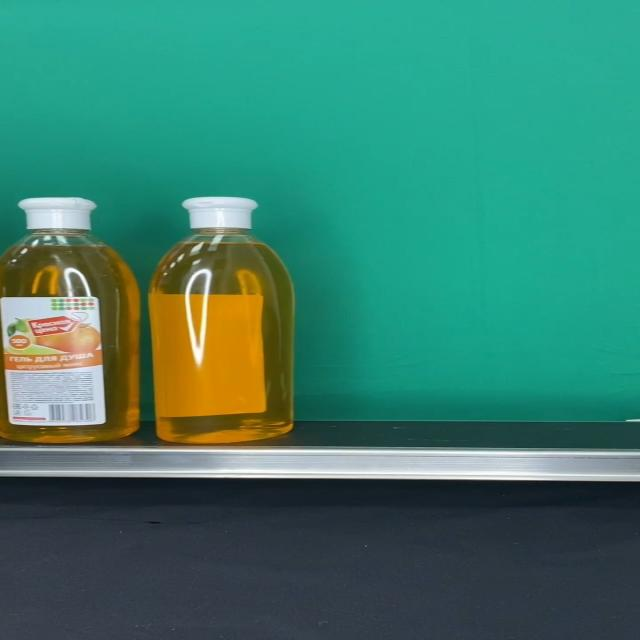Bottle: (150, 196, 295, 442), (0, 197, 140, 443)
Cap: (18, 198, 98, 230), (180, 196, 260, 228)
